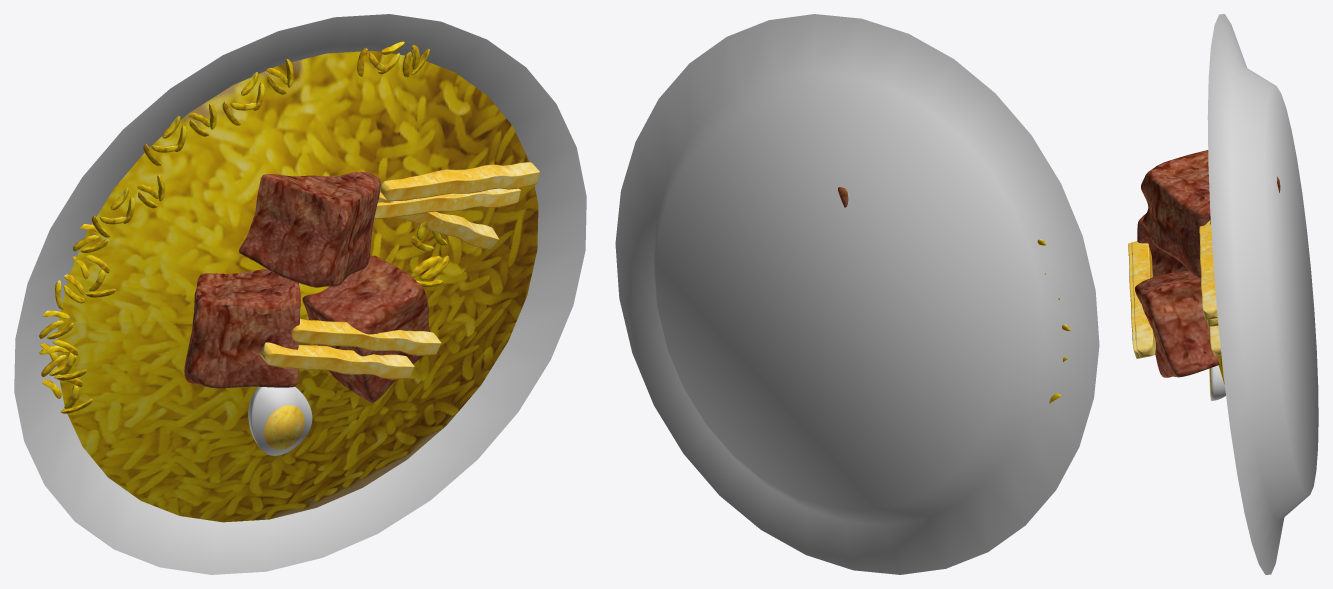
Rendered from smbeefkabsa-v6.glb.
The picture shows the model from 3 angles, left to right: view 1: azimuth 30°, elevation 25°; view 2: azimuth 150°, elevation 25°; view 3: azimuth 270°, elevation 25°; orthographic projection. The views are drawn at different scales.
Visible parts, largest first — view 1: Cone, Circle.002, Cube.006, Cube.005, Cube.007, Cube.004, Sphere, Cube.008, Cube.001, Cube.002, Cube.003, Plane.011 (+7 smaller); view 2: Circle.002; view 3: Circle.002, Cube.006, Cube.007, Cube.001, Cube.004, Cube.005, Cube.008, Sphere, Cube.003.
Boxes of the visible parts, <box> form: Cone: <box>57,50,538,522</box>; Circle.002: <box>14,14,586,574</box>; Cube.006: <box>239,171,380,287</box>; Cube.005: <box>184,268,300,388</box>; Cube.007: <box>302,255,429,402</box>; Cube.004: <box>381,162,539,201</box>; Sphere: <box>248,386,312,455</box>; Cube.008: <box>260,342,414,379</box>; Cube.001: <box>291,318,441,355</box>; Cube.002: <box>374,188,520,218</box>; Cube.003: <box>378,192,499,249</box>; Plane.011: <box>222,59,293,125</box>; Circle.002: <box>615,14,1099,574</box>; Circle.002: <box>1207,14,1318,574</box>; Cube.006: <box>1141,150,1280,277</box>; Cube.007: <box>1135,270,1219,377</box>; Cube.001: <box>1131,241,1155,357</box>; Cube.004: <box>1199,224,1217,320</box>; Cube.005: <box>1137,213,1188,277</box>; Cube.008: <box>1128,242,1151,358</box>; Sphere: <box>1209,365,1225,400</box>; Cube.003: <box>1204,220,1221,356</box>.
Size of the model in its own units: 8.73 by 8.68 by 2.95.
21 materials, 19 textured.
